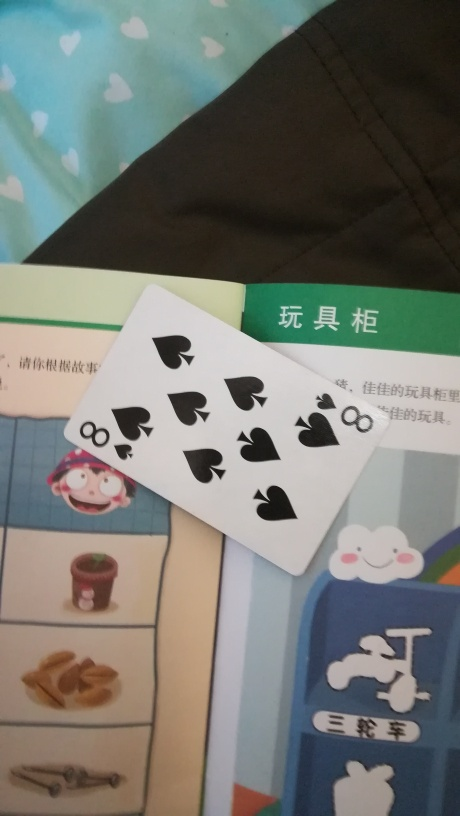ht 8: (63, 278, 389, 581)
